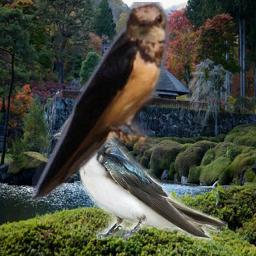Swallow: (32, 2, 169, 205), (52, 109, 228, 244)
